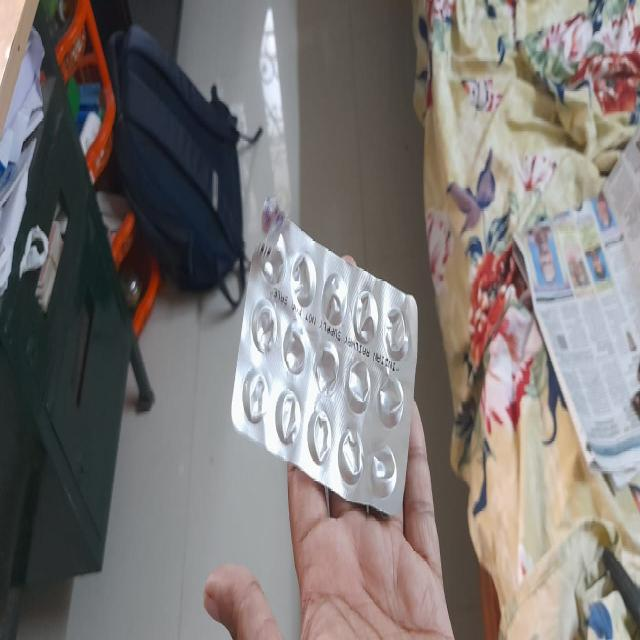Blister_Packs - Non Recyclable: (229, 195, 419, 521)
